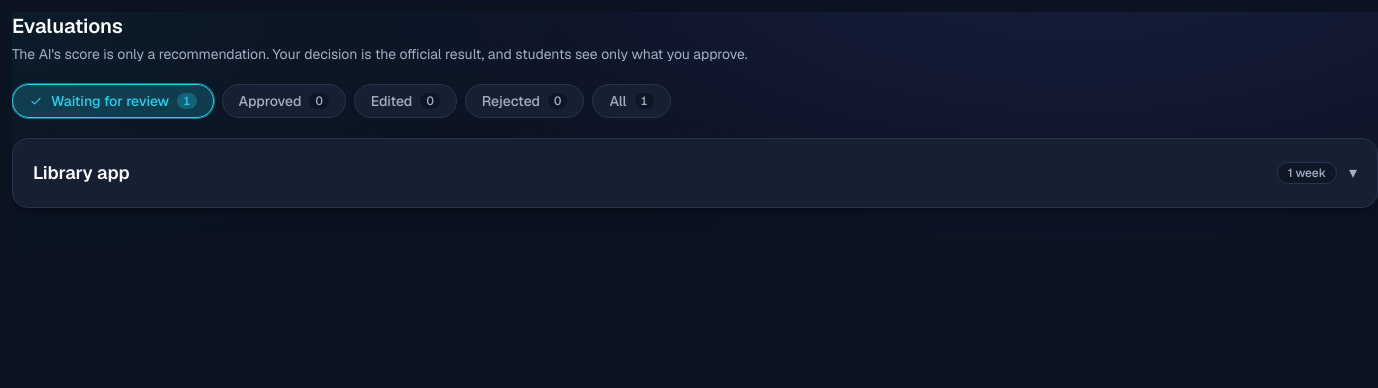
Test: FacultyQueue › each week links to its review, and the arrow at the bottom links to the project overview
Click the text "Library app".
click(81, 173)  # box [33,159,130,187]
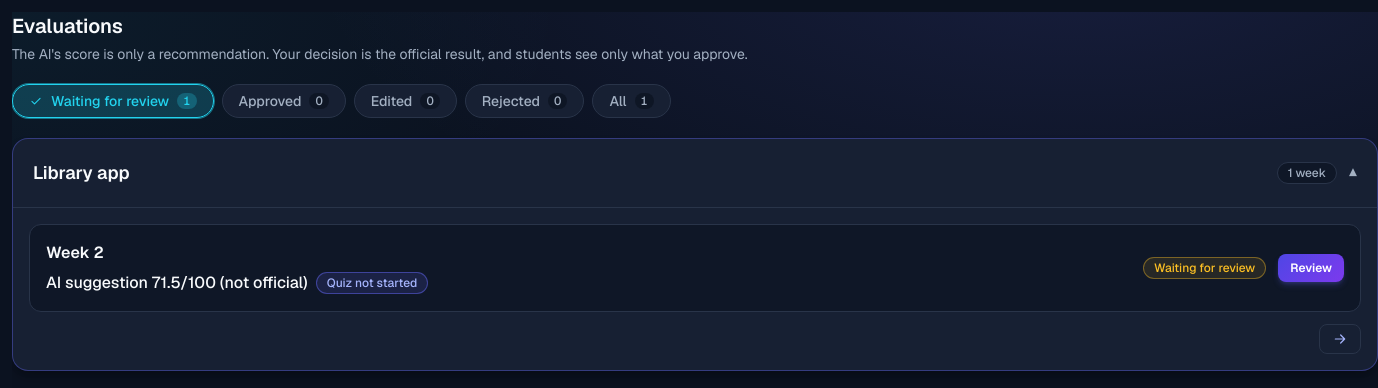
Expected: the 2nd icon is shown, [1332,331,1348,347]
